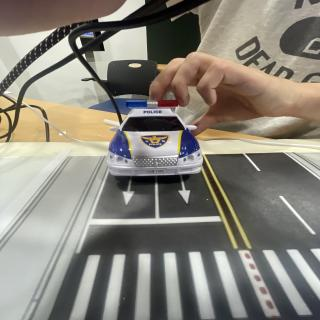Police_car: (107, 100, 203, 176)
